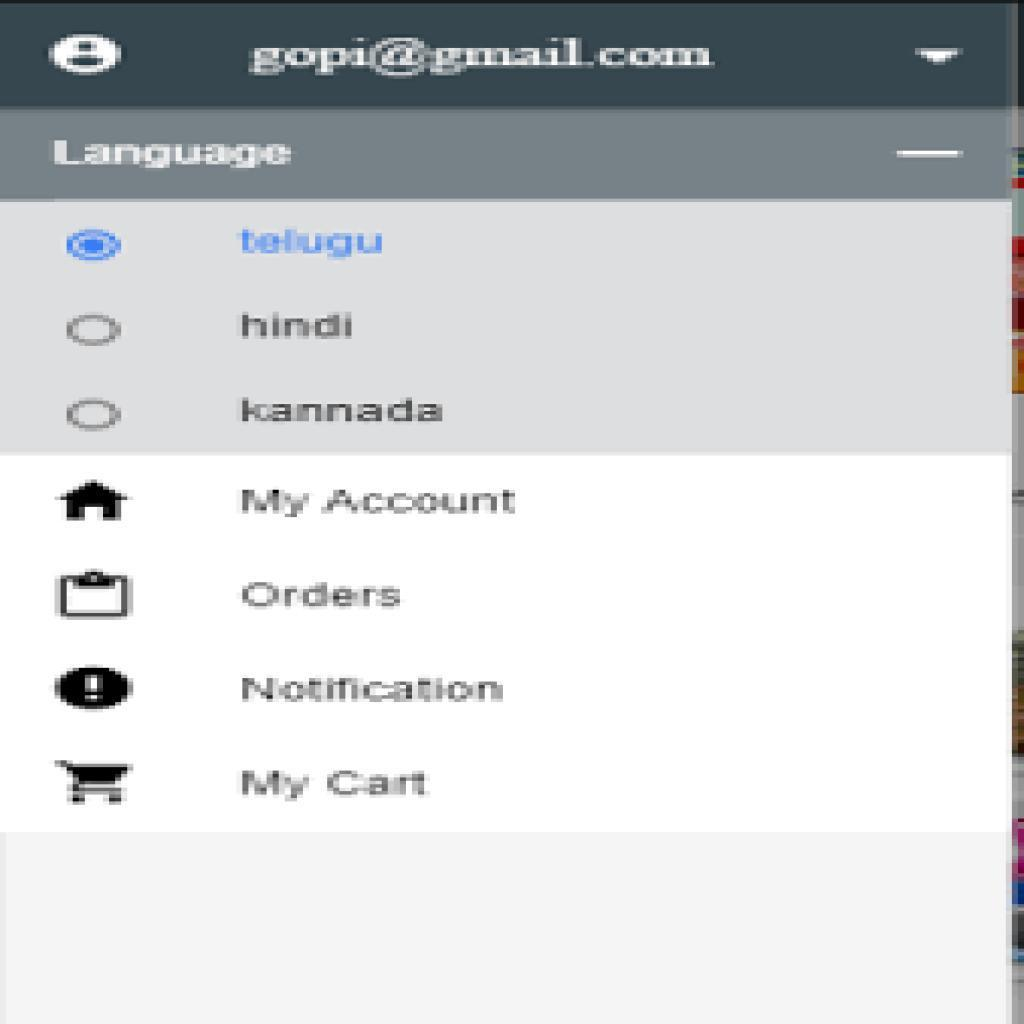icon: (51, 744, 143, 823), (50, 660, 144, 714), (58, 567, 136, 629), (52, 472, 137, 526), (50, 34, 125, 82), (912, 41, 975, 77)
label: (234, 485, 528, 519), (239, 675, 511, 710), (235, 391, 457, 432), (237, 762, 433, 804), (234, 576, 412, 617), (233, 305, 362, 349), (238, 227, 391, 263)
radio: (58, 304, 136, 363), (53, 220, 136, 267), (58, 388, 140, 435)
